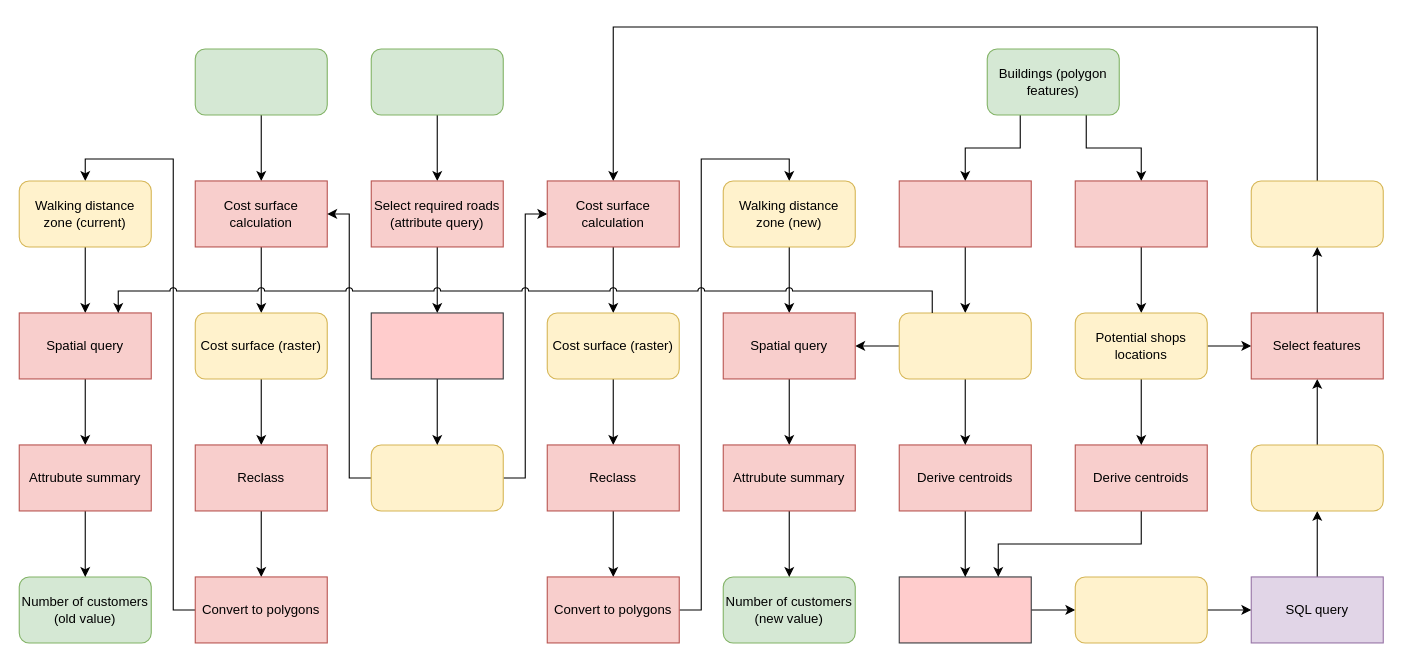
Some shapes in this 1403 by 662 pixel diagram are drawn without their labels. Each missing label, with the centre of its shape:
"Apartments" goes at point (964, 345).
"OD matrix" goes at point (1140, 609).
"OD matrix computation" goes at point (964, 609).
"Optimal shops location" goes at point (1316, 213).
"Pedestrian roads (exploded)" goes at point (436, 477).
"Road network (line features)" goes at point (436, 81).
"Select apartments (attribute query)" goes at point (964, 213).
"Select buildings suitable for shops (attribute query)" goes at point (1140, 213).
"shops (point features)" goes at point (260, 81).
"Split roads (explode lines)" goes at point (436, 345).
"Virtual layer with optimal points IDs" goes at point (1316, 477).
